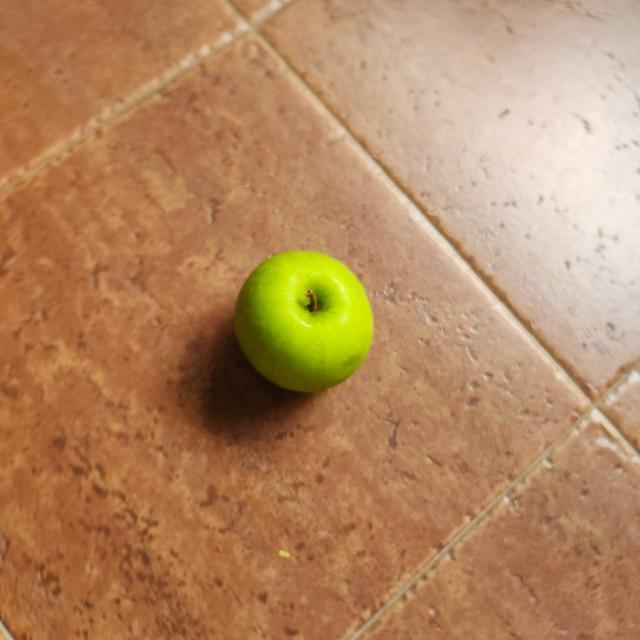apple: (227, 244, 377, 406)
